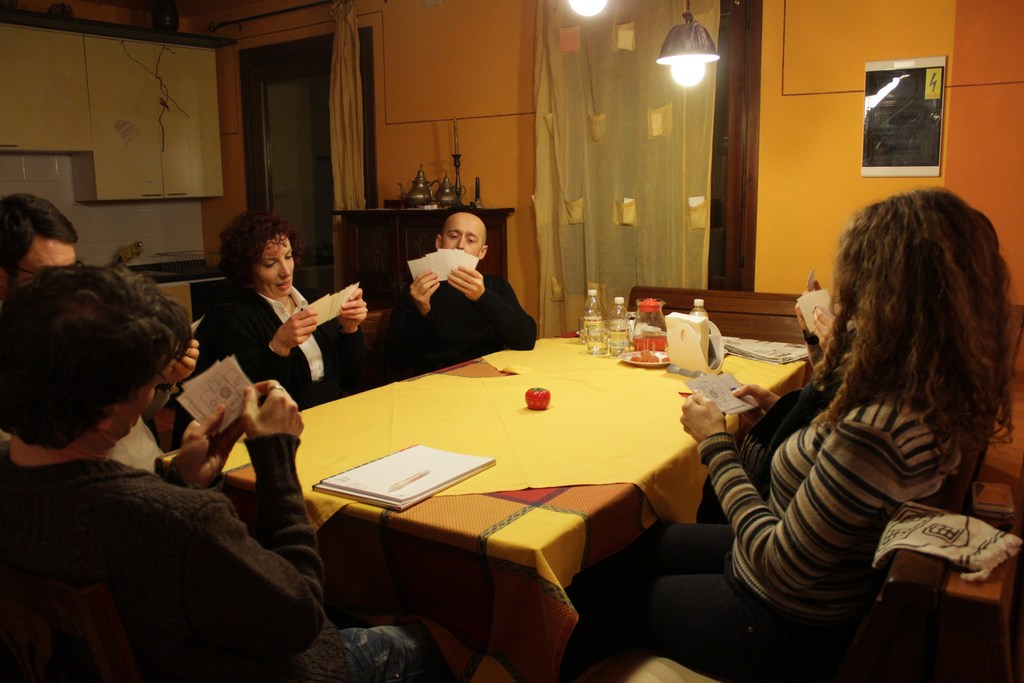Human_hand: (202, 381, 297, 468), (173, 402, 253, 493), (678, 388, 725, 447), (728, 381, 781, 425), (159, 338, 203, 388), (442, 258, 489, 304), (406, 265, 443, 320), (275, 306, 320, 350), (809, 304, 844, 357), (335, 283, 369, 329), (794, 302, 814, 334)
